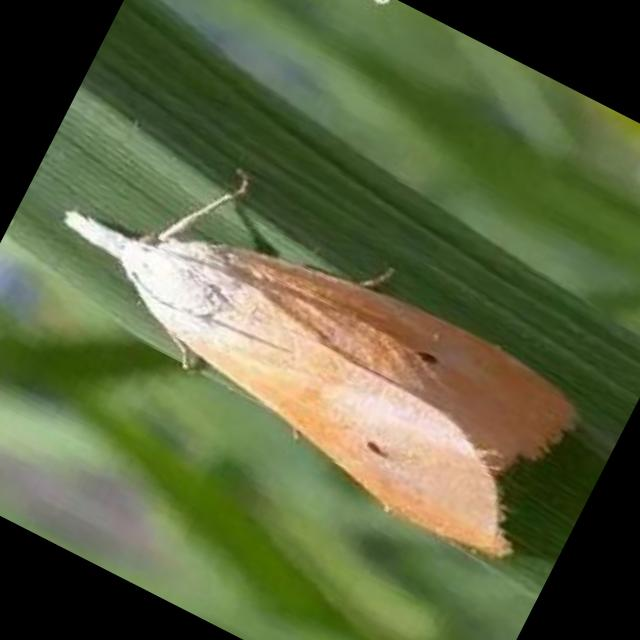stem-borer: (6, 132, 606, 578)
